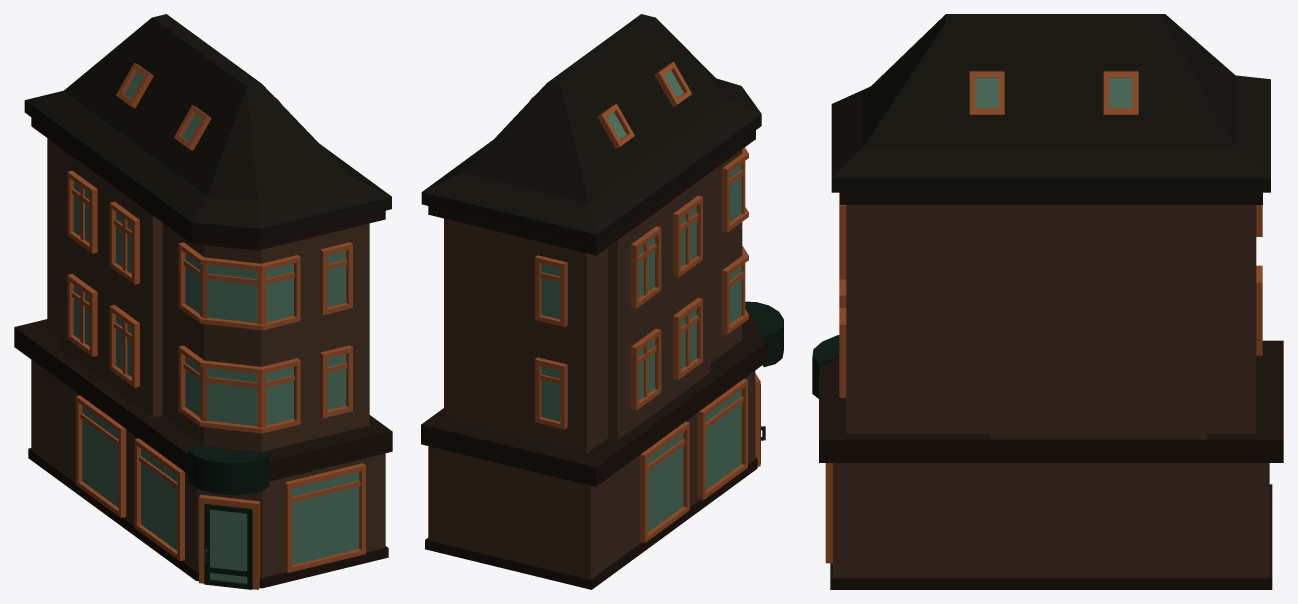
File: House_05.FBX
3 views of the same model, side by side, from view 1: azimuth 30°, elevation 25°; view 2: azimuth 150°, elevation 25°; view 3: azimuth 270°, elevation 25° (orthographic). The views are drawn at different scales.
Visible parts, largest first — view 1: House_05; view 2: House_05; view 3: House_05.
Boxes of the visible parts, left/top/right/bottom form: House_05: left=14, top=14, right=392, bottom=589; House_05: left=421, top=14, right=783, bottom=589; House_05: left=812, top=14, right=1283, bottom=589.
Bounding box in the file's own units: 10.58 × 20.26 × 24.9.
